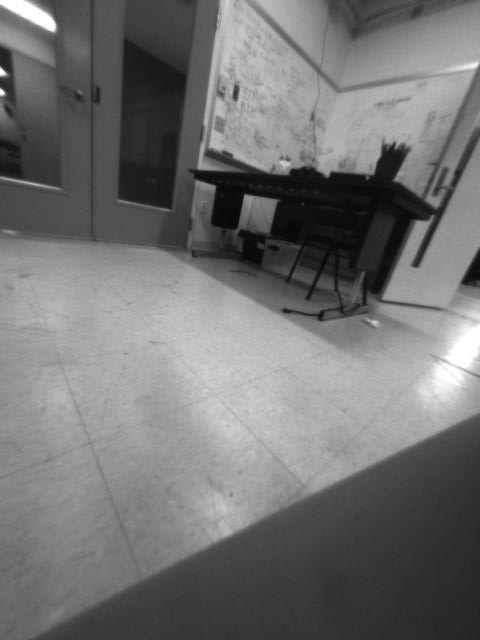door_handle: (55, 80, 86, 106)
